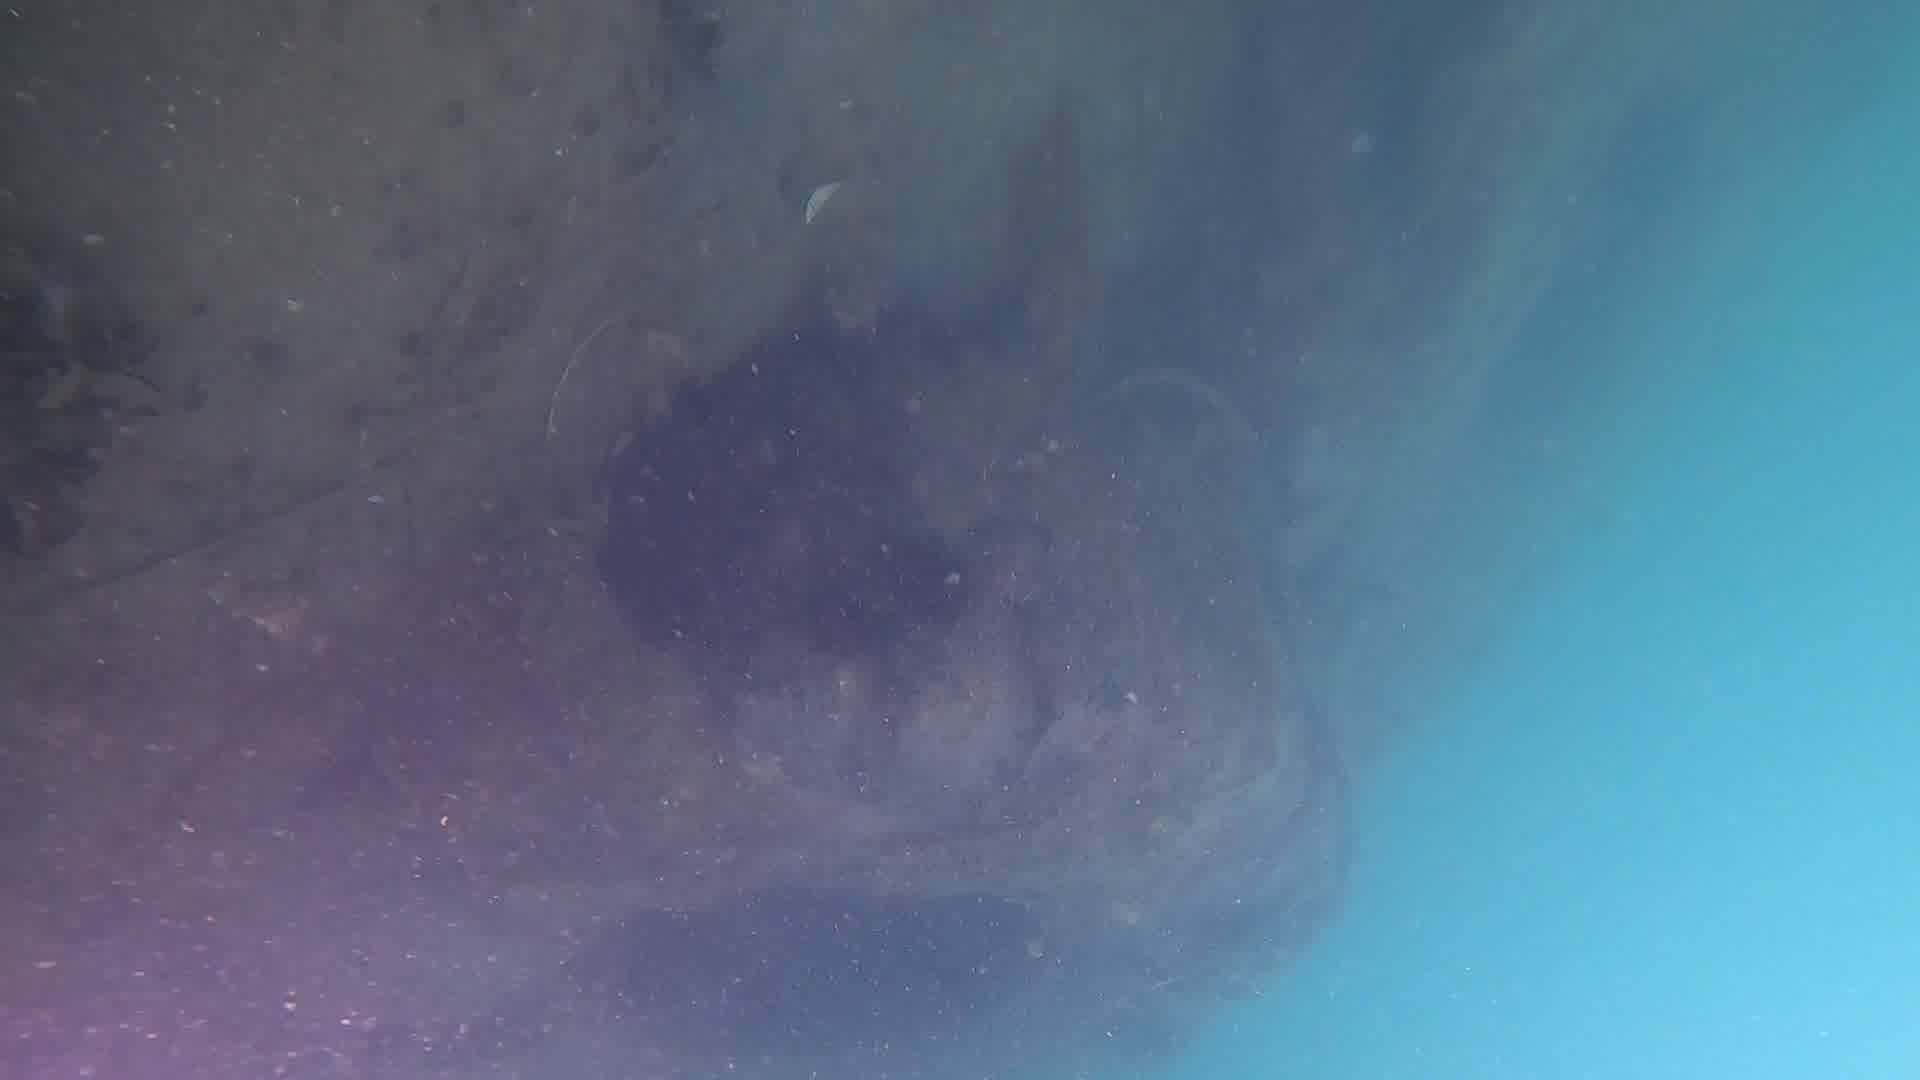tire: (301, 361, 1353, 1080)
